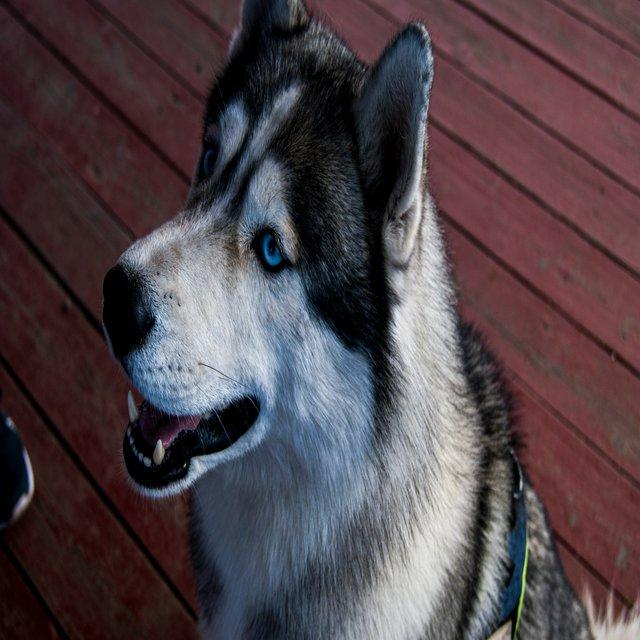husky: (99, 0, 637, 639)
